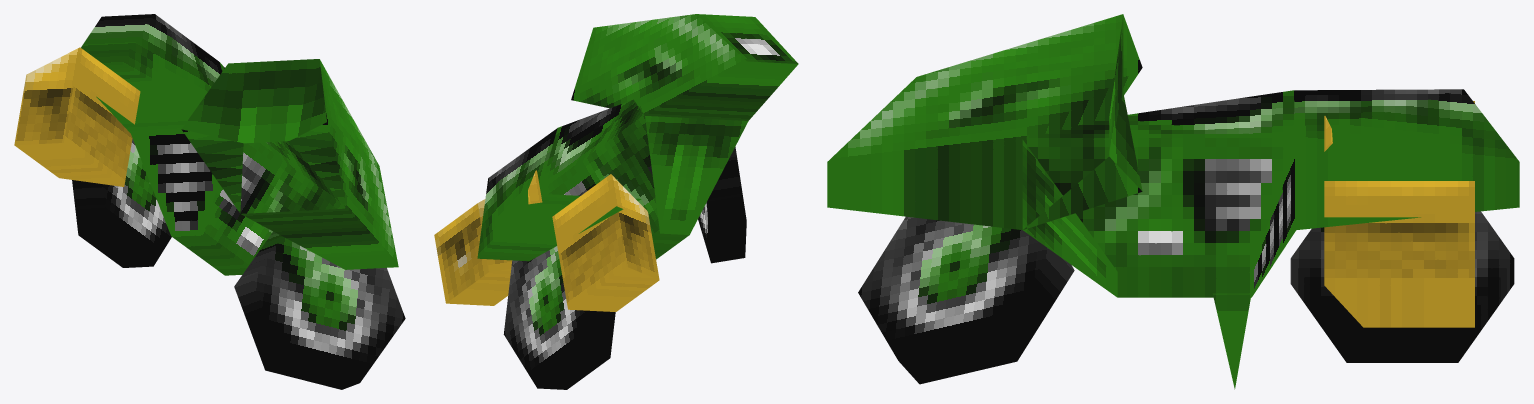
The model's file is motorcycle.glb.
3 renders of one model, left to right at view 1: azimuth 30°, elevation 25°; view 2: azimuth 150°, elevation 25°; view 3: azimuth 270°, elevation 25°, orthographic. The views are drawn at different scales.
Visible parts, largest first — view 1: motorcycle; view 2: motorcycle; view 3: motorcycle.
Part boxes in pixels (x1,y1,x2,y2): motorcycle: (14,14,405,389); motorcycle: (434,14,798,389); motorcycle: (827,14,1519,389).
Bounding box in the file's own units: 0.9666 × 1.34 × 2.48.
Materials: 1 (1 with a texture image).
